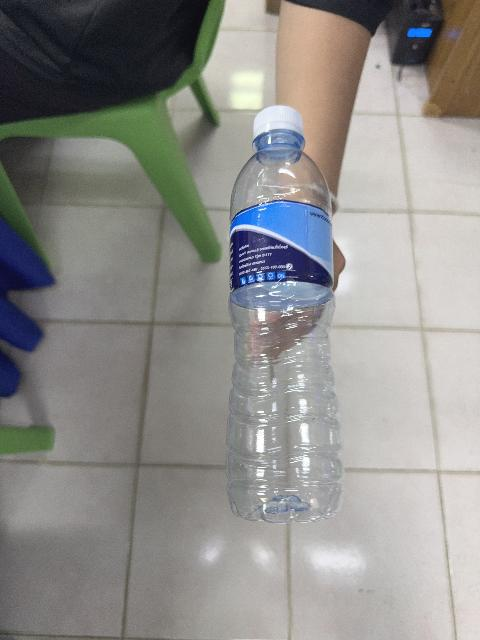bottle: (226, 106, 342, 522)
